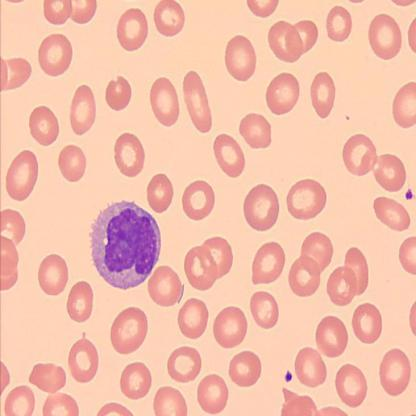Monocyte: (87, 197, 162, 291)
